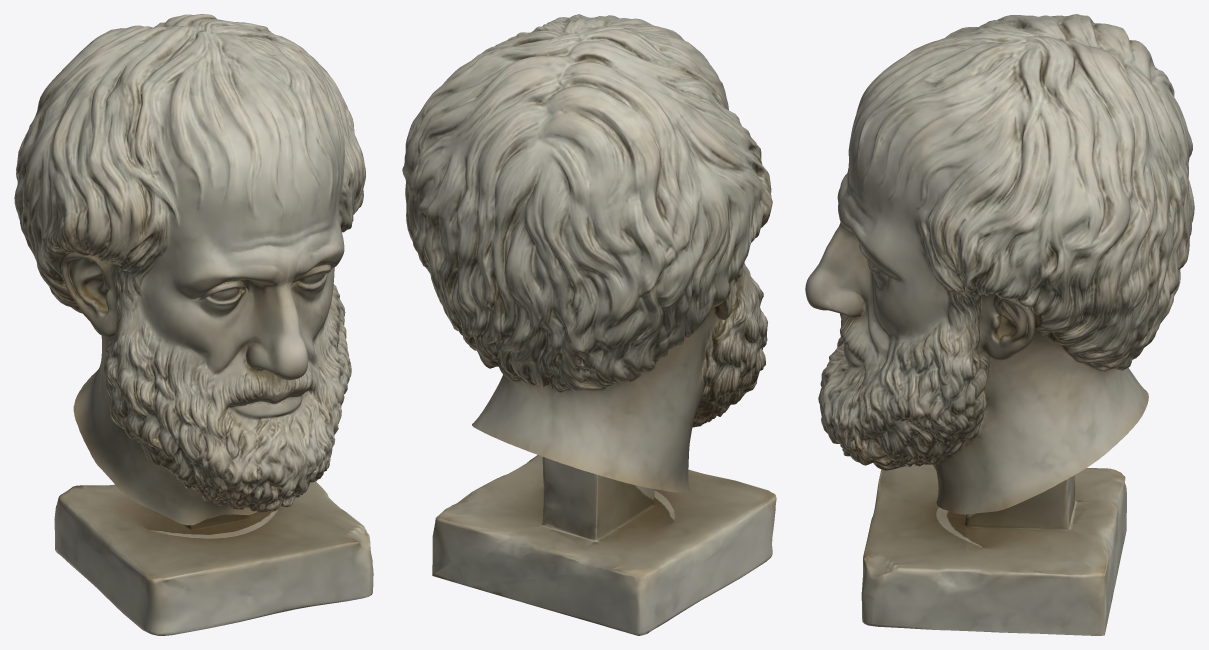
Rendered from aristotle_2k_webp.glb.
3 views of the same model, side by side, from view 1: azimuth 30°, elevation 25°; view 2: azimuth 150°, elevation 25°; view 3: azimuth 270°, elevation 25° (orthographic). The views are drawn at different scales.
Parts seen in each view (by area): view 1: aristoteleshead_marble; view 2: aristoteleshead_marble; view 3: aristoteleshead_marble.
Boxes of the visible parts, x1,y1,x2,y2 form: aristoteleshead_marble: [14, 14, 373, 635]; aristoteleshead_marble: [402, 14, 776, 635]; aristoteleshead_marble: [805, 14, 1194, 635].
Bounding box in the file's own units: 19.34 × 31.62 × 20.4.
1 material, 1 textured.
